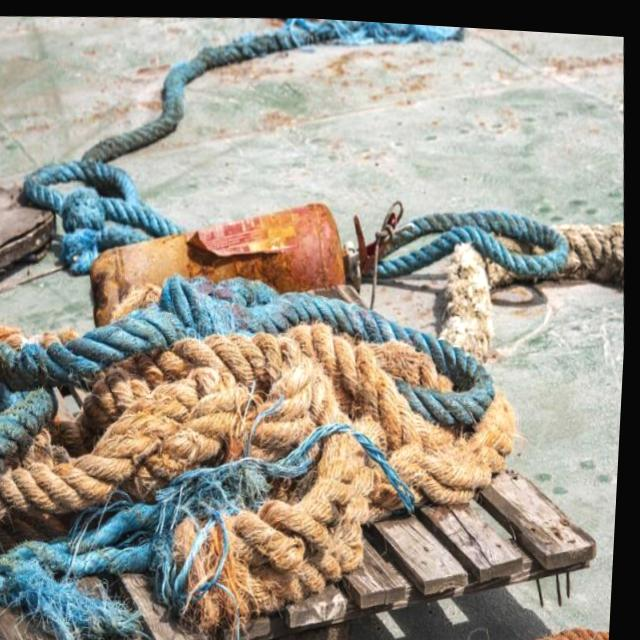FireExtinguisher: (81, 171, 423, 380)
